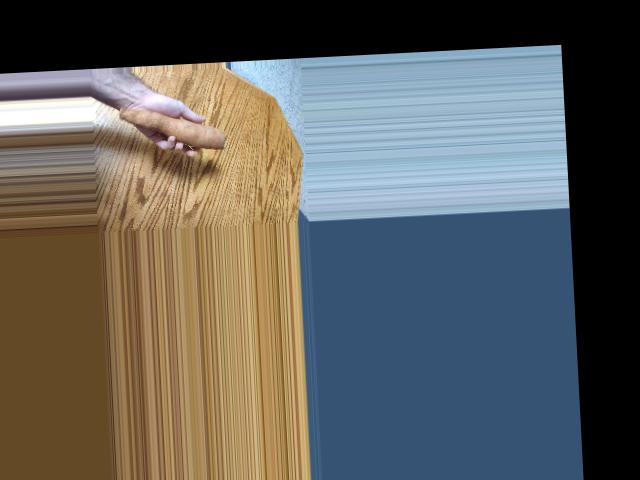sweet_potato: (120, 99, 226, 157)
